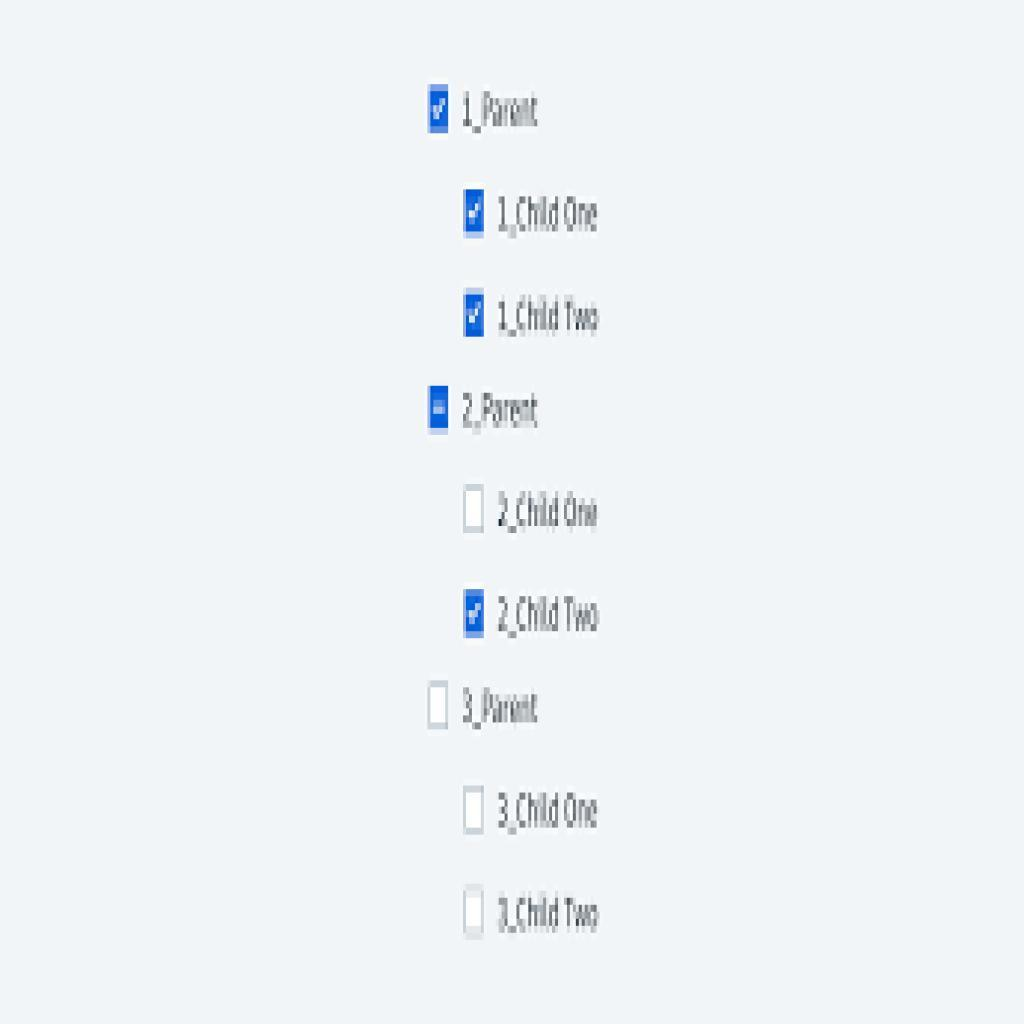checkbox: (462, 587, 486, 641), (463, 485, 488, 534), (463, 292, 487, 340), (464, 188, 487, 238), (426, 684, 449, 732), (465, 887, 487, 936), (430, 85, 451, 136), (430, 382, 451, 430), (464, 790, 487, 832), (466, 488, 485, 533)
